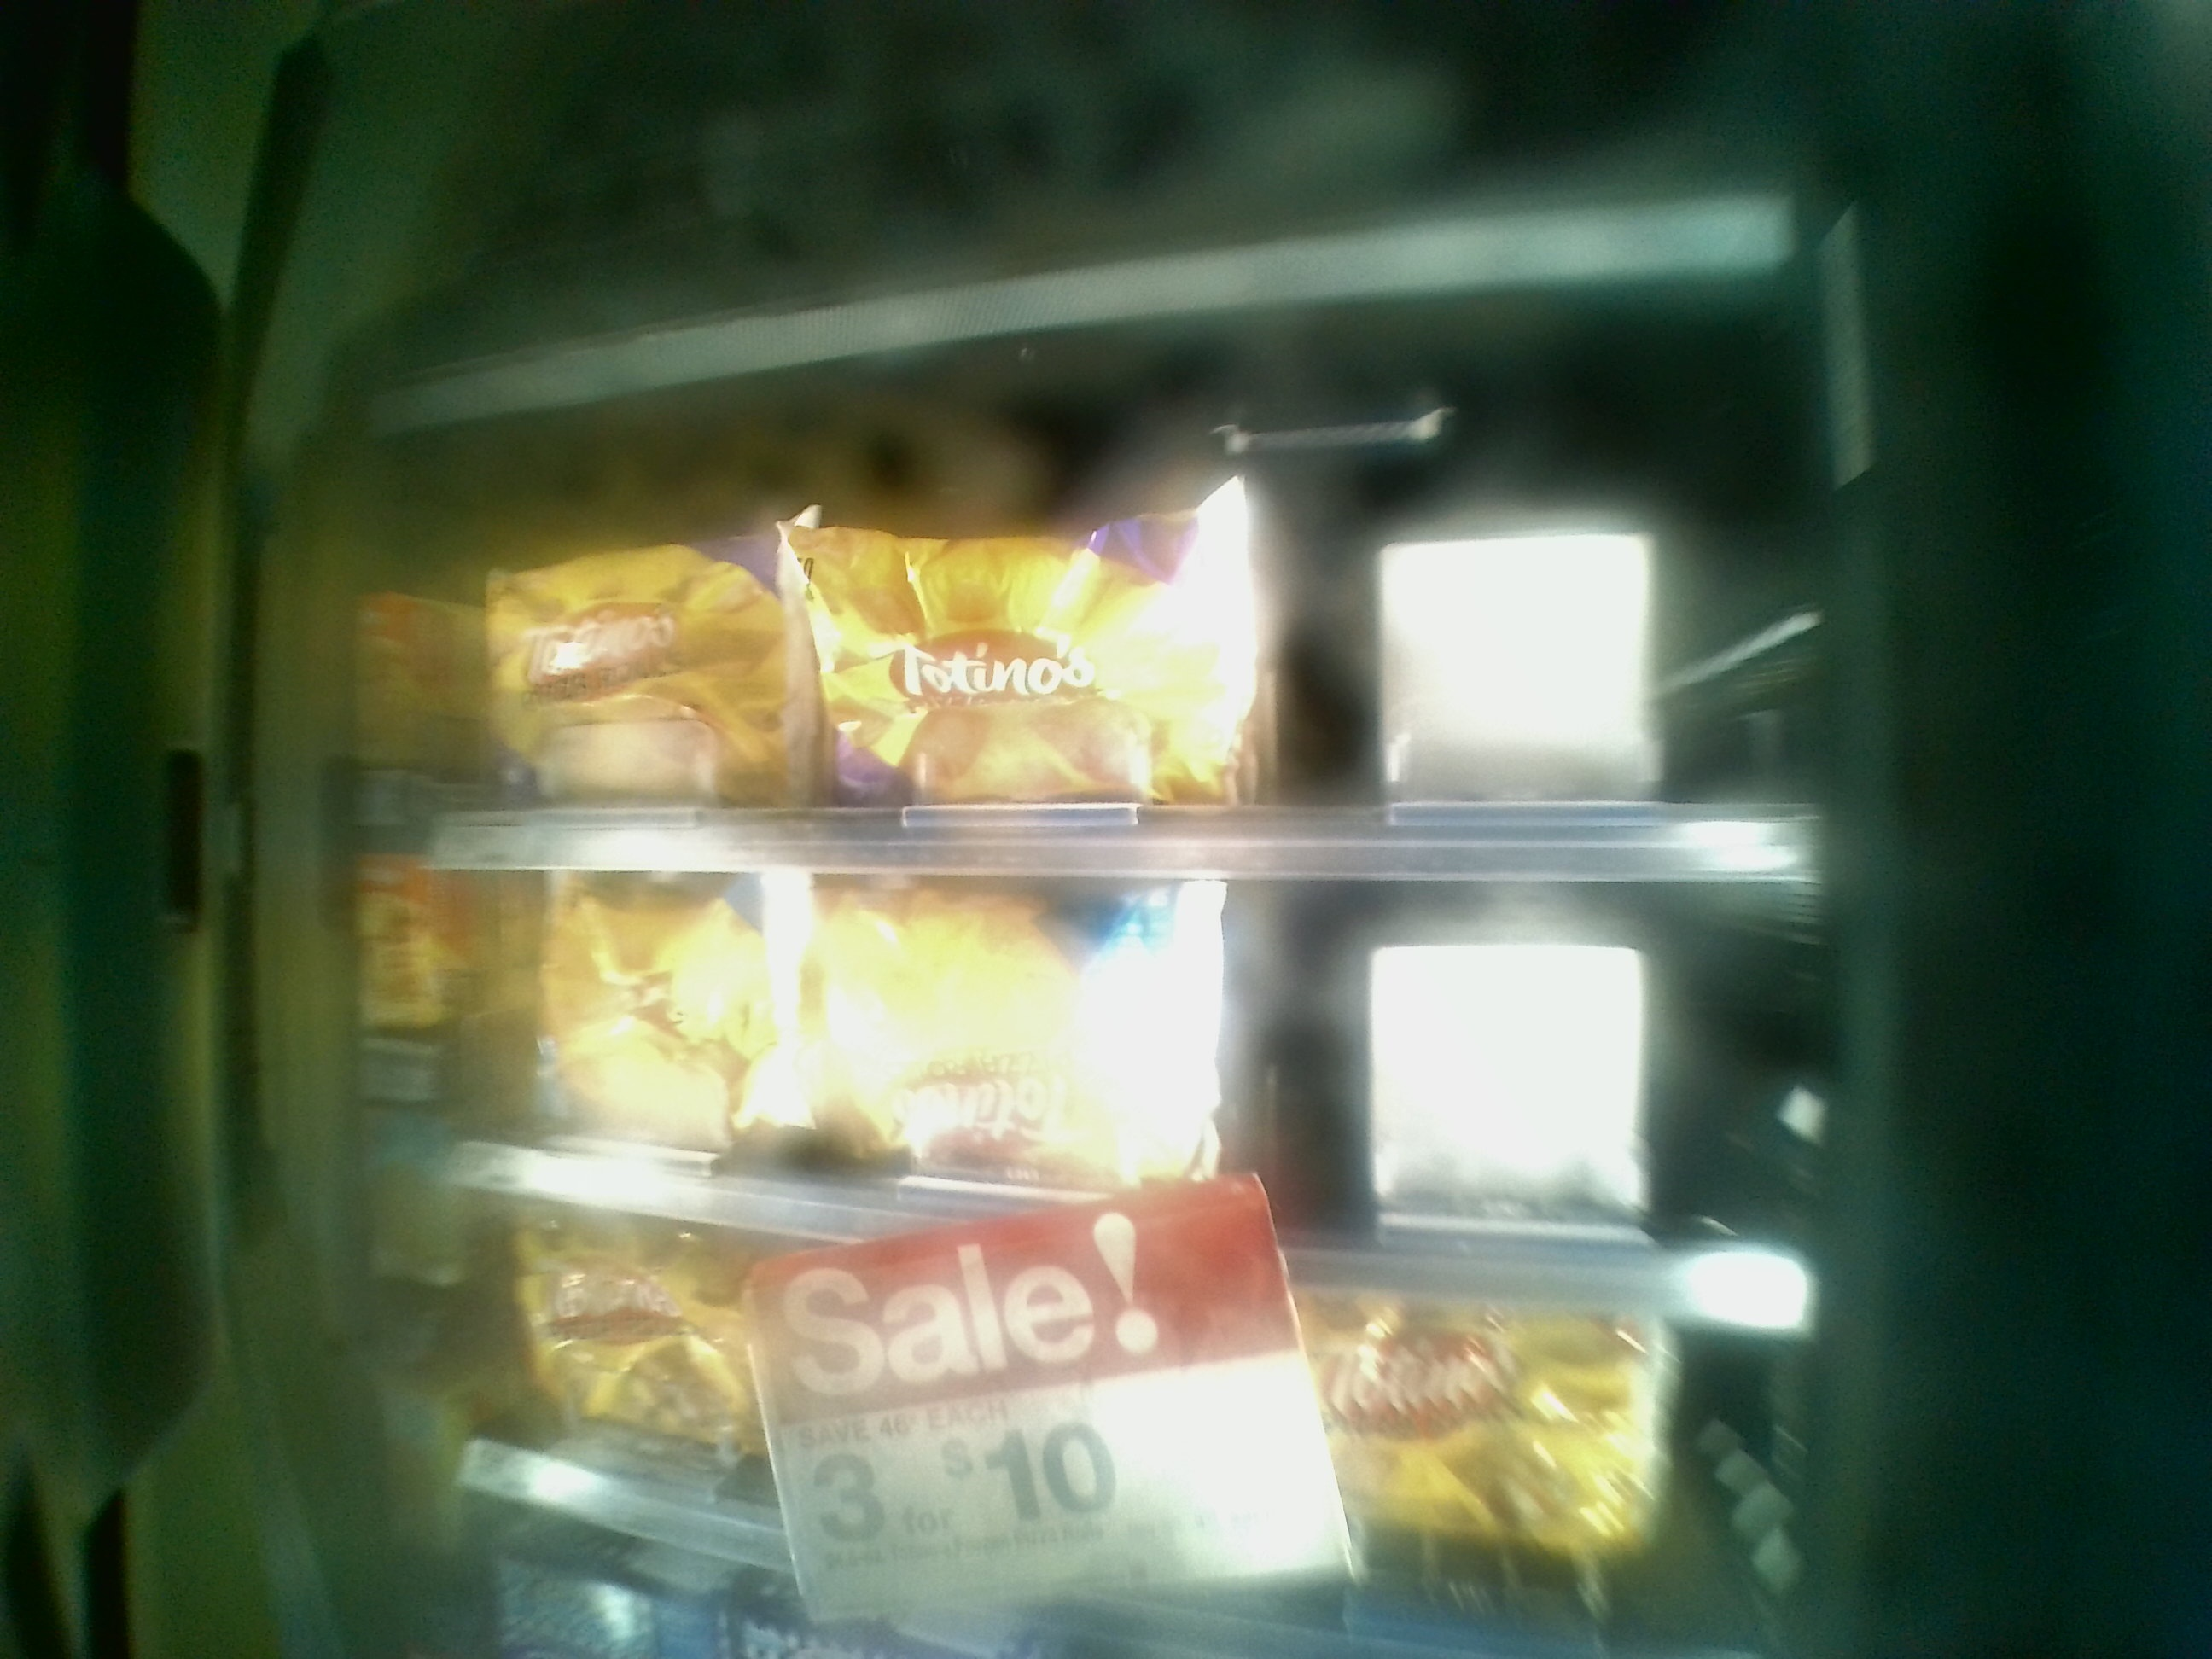shelf: (392, 849, 1815, 1328), (338, 434, 1825, 884)
